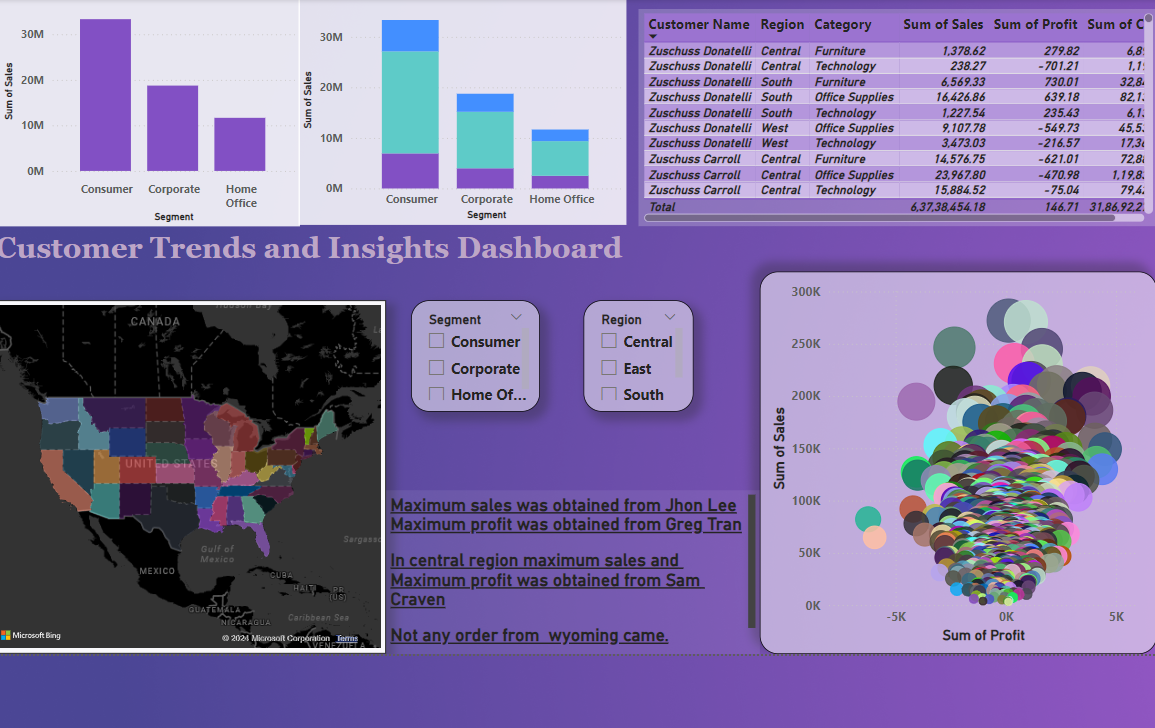

This screenshot's page, from the dashboard's own definition file:
{"tool":"powerbi","page":{"name":"Page 1","canvas":[1280,720],"ordinal":0},"visuals":[{"type":"columnChart","fields":{"Y":["sales data.Sales"],"Category":["sales data.Segment"]},"box":[9.6,0,329.3,249.7],"z":0},{"type":"columnChart","fields":{"Y":["sales data.Sales"],"Category":["sales data.Segment"],"Series":["sales data.Category"]},"box":[338,0,360,248],"z":1000},{"type":"filledMap","fields":{"Category":["sales data.State"],"Series":["sales data.State"]},"box":[0,330.7,433.6,388.3],"z":2000},{"type":"scatterChart","fields":{"X":["sales data.Profit"],"Y":["sales data.Sales"],"Size":["sales data.CLV"],"Series":["sales data.Customer Name"]},"box":[843.9,299.1,436.4,419.9],"z":3000},{"type":"slicer","fields":{"Values":["sales data.Region"]},"box":[650.4,330.7,120.8,122.1],"z":4000},{"type":"slicer","fields":{"Values":["sales data.Segment"]},"box":[461.1,330.7,141.3,122.1],"z":5000},{"type":"tableEx","fields":{"Values":["sales data.Customer Name","sales data.Region","sales data.Category","sales data.Sales","sales data.Profit","sales data.CLV"]},"box":[710.8,11,569.5,238.8],"z":6000},{"type":"textbox","box":[0,250,710,50],"z":7000},{"type":"textbox","box":[433.6,539.3,410.3,181.1],"z":7001}]}

Visuals, with their boxes on the page's 1280x720 design canvas (x1, y1, x2, y2). These are canvas units, not pixel positions in the 1155x728 screenshot, which may show the page scaled, cropped or inside an application window:
columnChart - sales data.Sales x sales data.Segment: box(10, 0, 339, 250)
columnChart - sales data.Sales x sales data.Segment: box(338, 0, 698, 248)
filledMap - sales data.State x sales data.State: box(0, 331, 434, 719)
scatterChart - sales data.Profit x sales data.Sales: box(844, 299, 1280, 719)
slicer - sales data.Region: box(650, 331, 771, 453)
slicer - sales data.Segment: box(461, 331, 602, 453)
tableEx - sales data.Customer Name x sales data.Region: box(711, 11, 1280, 250)
textbox: box(0, 250, 710, 300)
textbox: box(434, 539, 844, 720)
